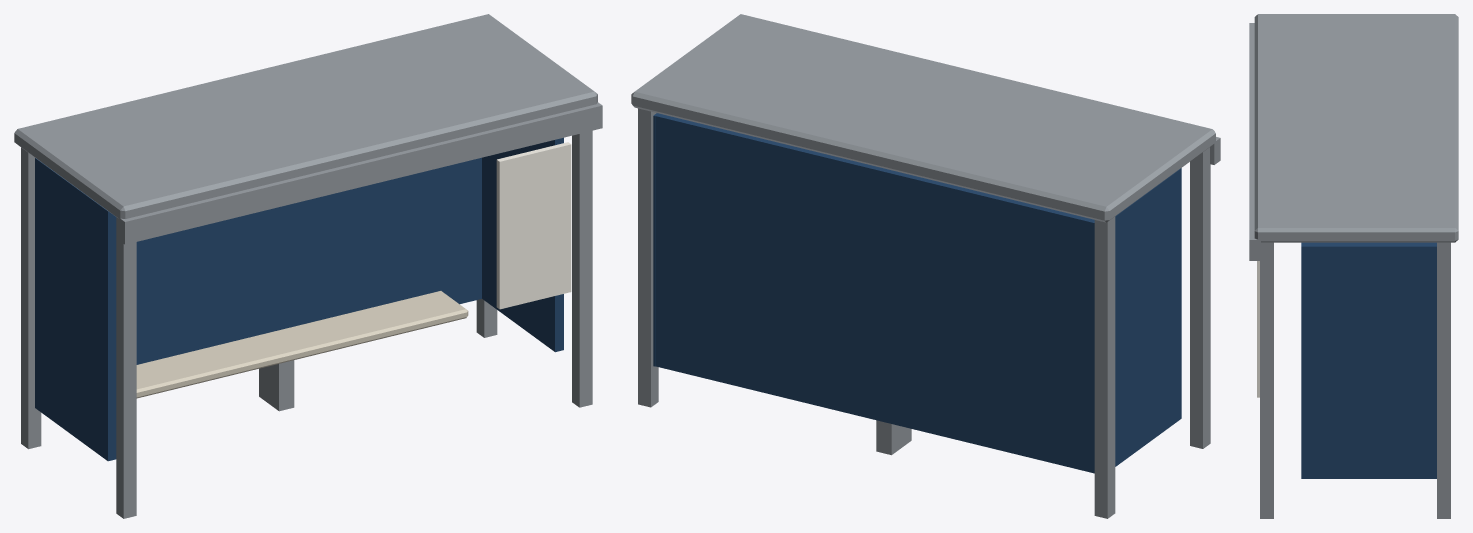
Rendered from muni_shelter.glb.
3 views of the same model, side by side, from view 1: azimuth 30°, elevation 25°; view 2: azimuth 150°, elevation 25°; view 3: azimuth 270°, elevation 25° (orthographic). The views are drawn at different scales.
Visible parts, largest first — view 1: muni_shelter_roof, muni_shelter_back, muni_shelter_endL, muni_shelter_fascia, muni_shelter_panel, muni_shelter_bench, muni_shelter_postL, muni_shelter_postR, muni_shelter_endR, muni_shelter_backpostL, muni_shelter_benchleg, muni_shelter_backpostR; view 2: muni_shelter_back, muni_shelter_roof, muni_shelter_endL, muni_shelter_backpostL, muni_shelter_postL, muni_shelter_backpostR, muni_shelter_benchleg, muni_shelter_endR; view 3: muni_shelter_roof, muni_shelter_endR, muni_shelter_backpostR, muni_shelter_postR, muni_shelter_fascia, muni_shelter_panel.
Boxes of the visible parts, bbox=[...] form: muni_shelter_roof: bbox=[14, 14, 597, 219]; muni_shelter_back: bbox=[136, 157, 481, 364]; muni_shelter_endL: bbox=[35, 158, 116, 461]; muni_shelter_fascia: bbox=[118, 102, 602, 244]; muni_shelter_panel: bbox=[496, 142, 571, 309]; muni_shelter_bench: bbox=[136, 291, 468, 398]; muni_shelter_postL: bbox=[116, 217, 136, 518]; muni_shelter_postR: bbox=[572, 130, 592, 407]; muni_shelter_endR: bbox=[482, 137, 563, 352]; muni_shelter_backpostL: bbox=[21, 147, 41, 449]; muni_shelter_benchleg: bbox=[259, 360, 294, 411]; muni_shelter_backpostR: bbox=[476, 299, 497, 337]; muni_shelter_back: bbox=[655, 113, 1094, 473]; muni_shelter_roof: bbox=[631, 14, 1215, 222]; muni_shelter_endL: bbox=[1115, 168, 1181, 466]; muni_shelter_backpostL: bbox=[1094, 216, 1115, 518]; muni_shelter_postL: bbox=[1190, 147, 1210, 448]; muni_shelter_backpostR: bbox=[638, 108, 658, 407]; muni_shelter_benchleg: bbox=[876, 420, 911, 455]; muni_shelter_endR: bbox=[653, 113, 658, 366]; muni_shelter_roof: bbox=[1254, 14, 1458, 242]; muni_shelter_endR: bbox=[1301, 242, 1436, 478]; muni_shelter_backpostR: bbox=[1437, 242, 1450, 518]; muni_shelter_postR: bbox=[1260, 242, 1273, 518]; muni_shelter_fascia: bbox=[1249, 23, 1260, 260]; muni_shelter_panel: bbox=[1257, 261, 1259, 397].
Bounding box in the file's own units: 4.4 × 2.76 × 1.8.
